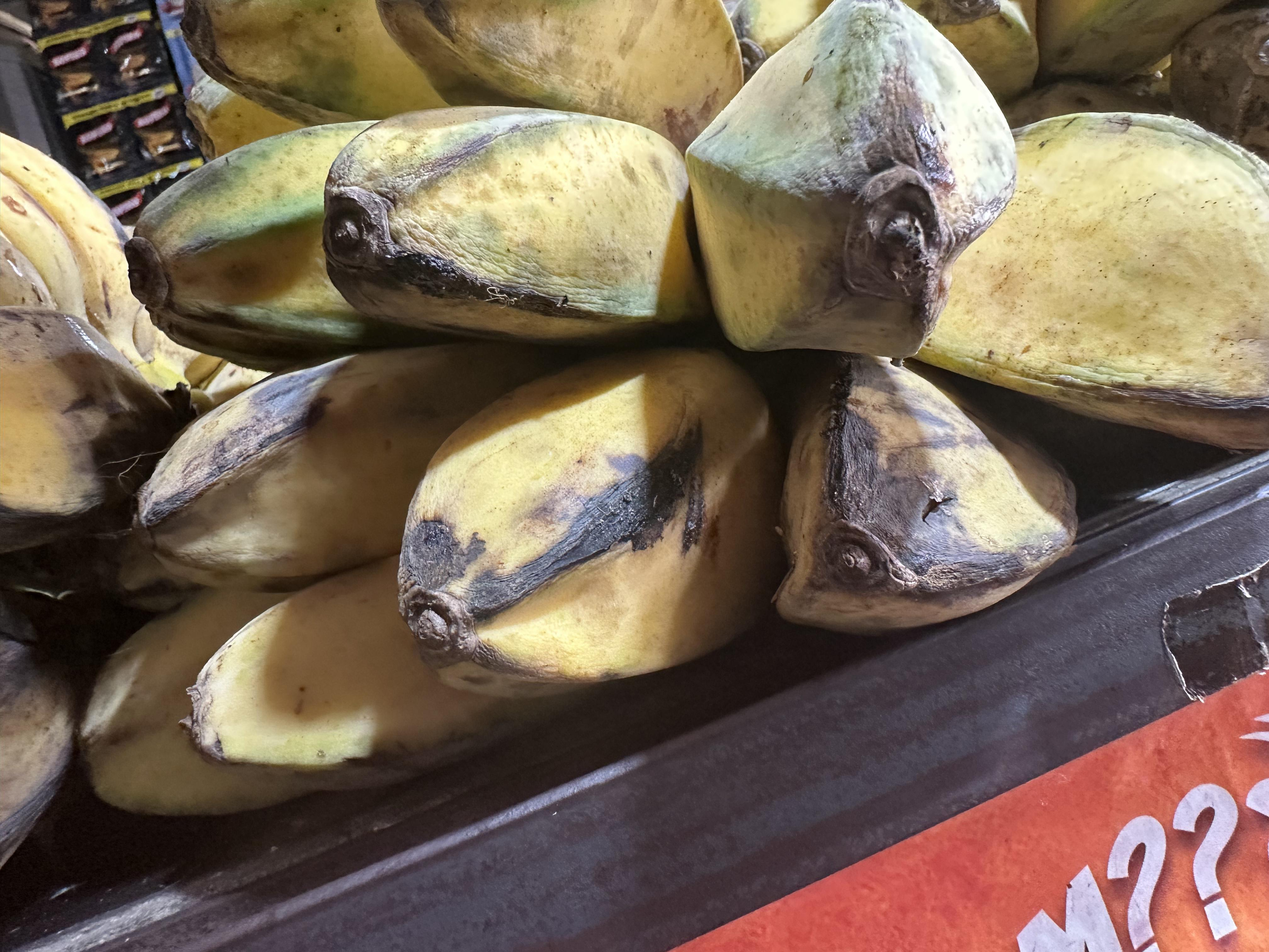ripe: (81, 344, 1077, 814), (0, 129, 206, 565)
underripe: (127, 0, 1269, 447)
